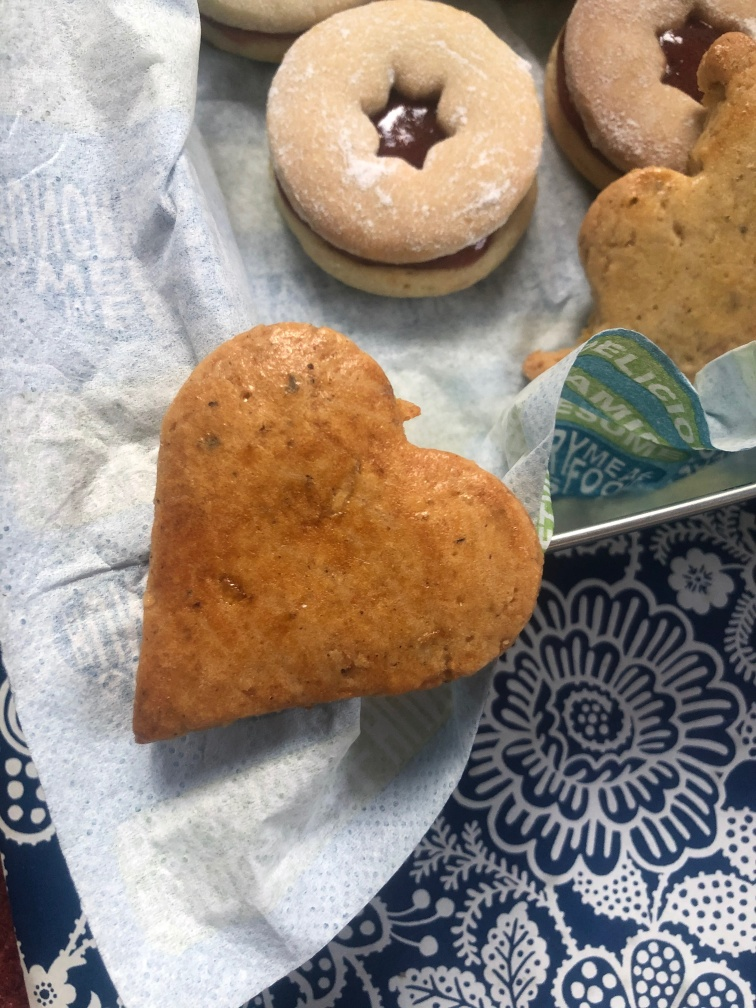christmas shortbread with jam: (266, 1, 543, 301), (556, 1, 708, 188)
heart: (125, 321, 545, 747)
